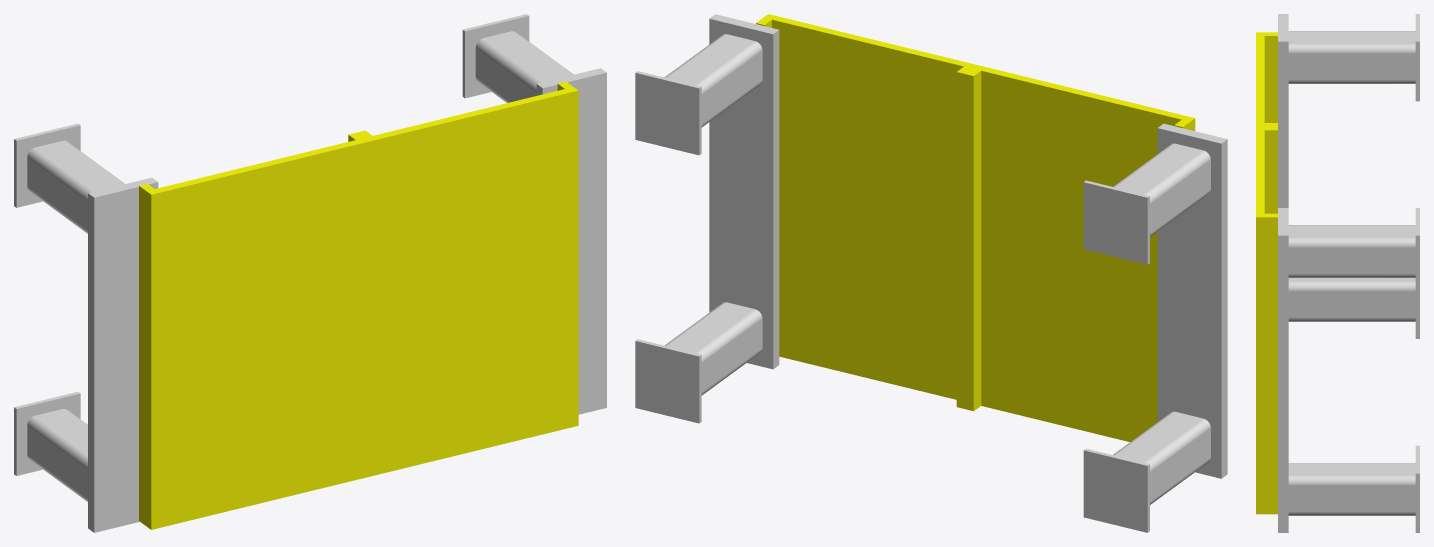
The model's file is buffer.glb.
3 views of the same model, side by side, from view 1: azimuth 30°, elevation 25°; view 2: azimuth 150°, elevation 25°; view 3: azimuth 270°, elevation 25° (orthographic). The views are drawn at different scales.
Parts seen in each view (by area): view 1: Part1.1, NAUO280.1; view 2: Part1.1, NAUO280.1; view 3: NAUO280.1, Part1.1.
Boxes of the visible parts, bbox=[...] form: Part1.1: bbox=[139, 81, 578, 529]; NAUO280.1: bbox=[14, 14, 606, 532]; Part1.1: bbox=[756, 14, 1195, 441]; NAUO280.1: bbox=[635, 14, 1227, 532]; NAUO280.1: bbox=[1278, 14, 1419, 532]; Part1.1: bbox=[1256, 32, 1277, 514].
Bounding box in the file's own units: 2.4 × 1.5 × 0.75.
